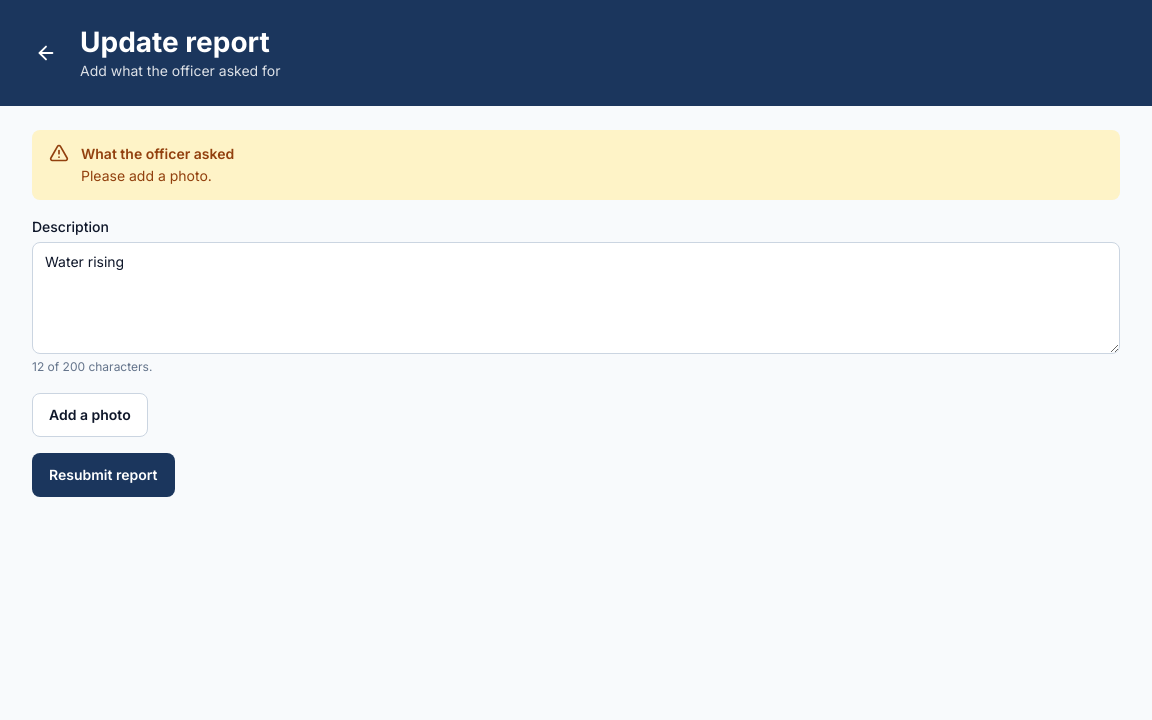
Test: Update report (13a) › should show a server refusal and keep the form
The image size is (1152, 720).
What coordinates should you click on to do the following:
click the button "Resubmit report"
I would click on:
 (103, 475)
Its box is top-left (32, 453), bottom-right (174, 497).
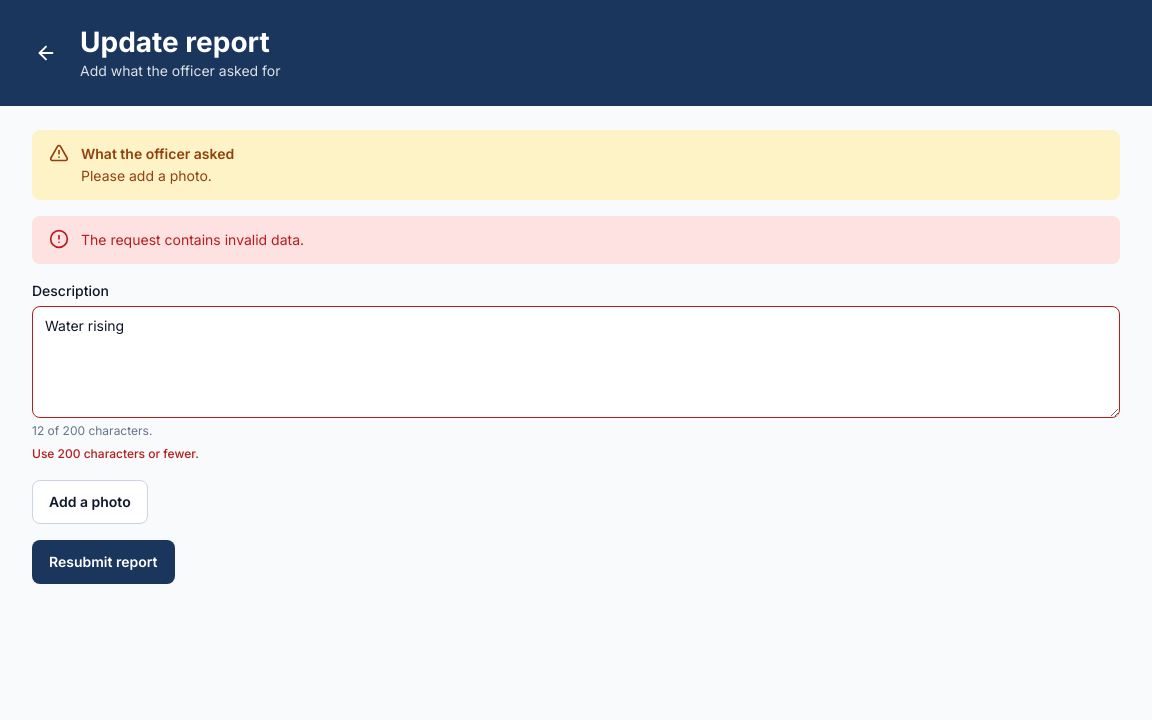
Check: the button "Resubmit report" is shown, box top-left (32, 540), bottom-right (174, 584)
Check: the text "Use 200 characters or fewer." is shown, box top-left (32, 446), bottom-right (199, 461)
